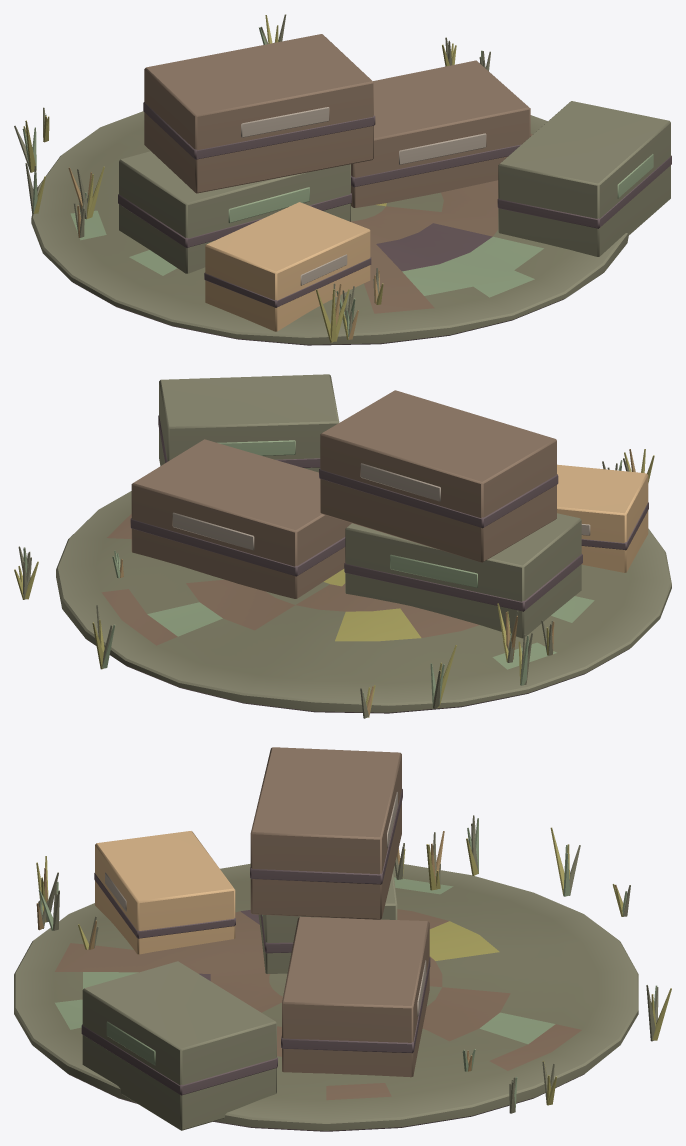
Rendered from field_props_v1.glb.
3 renders of one model, top to bottom at view 1: azimuth 30°, elevation 25°; view 2: azimuth 150°, elevation 25°; view 3: azimuth 270°, elevation 25°, orthographic. The views are drawn at different scales.
Visible parts, largest first — view 1: Body; view 2: Body; view 3: Body.
Part boxes in pixels (x1=…): Body: x1=14, y1=14, x2=671, y2=345; Body: x1=14, y1=374, x2=671, y2=718; Body: x1=14, y1=747, x2=671, y2=1131.
Size of the model in its own units: 0.4368 by 0.128 by 0.4487.
